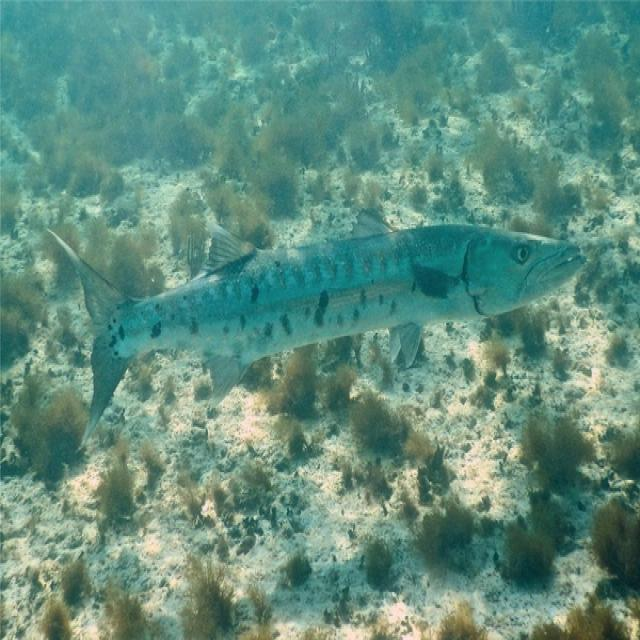Barracuda: (42, 205, 588, 456)
